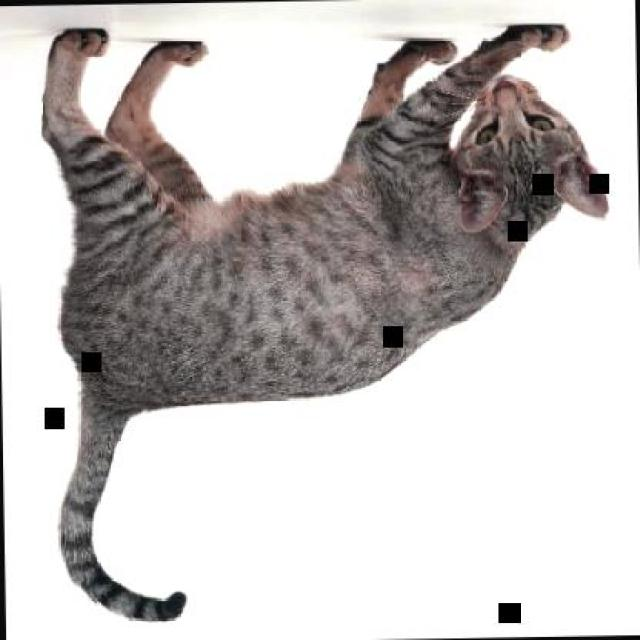cat: (38, 17, 614, 623)
